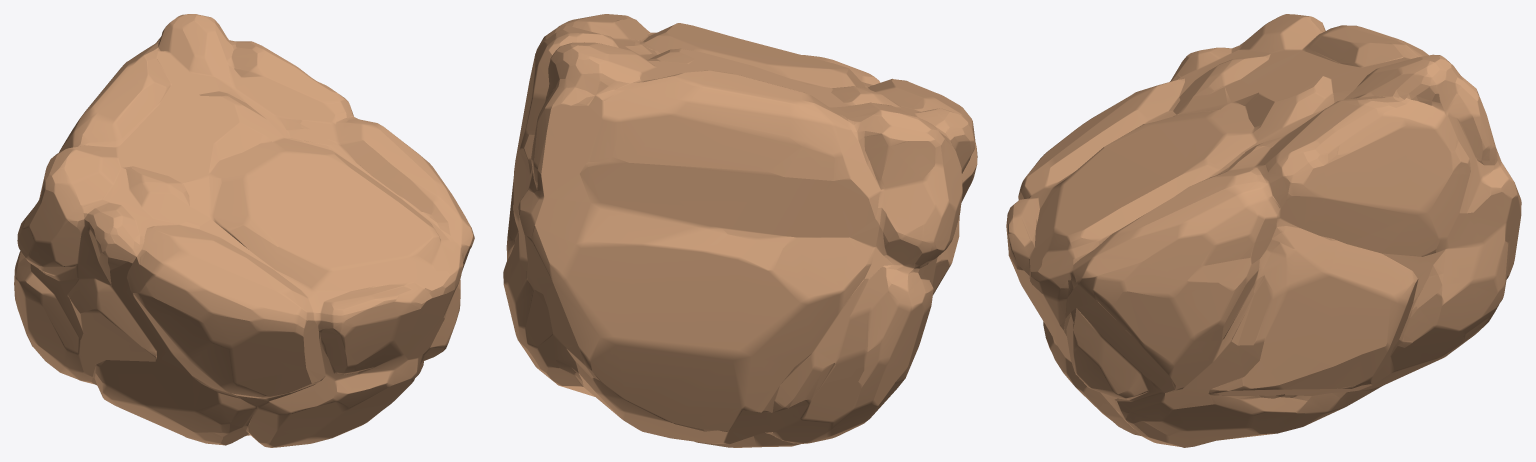
The picture shows the model from 3 angles, left to right: view 1: azimuth 30°, elevation 25°; view 2: azimuth 150°, elevation 25°; view 3: azimuth 270°, elevation 25°; orthographic projection. The views are drawn at different scales.
Visible parts, largest first — view 1: Mesh_38_LOD0; view 2: Mesh_38_LOD0; view 3: Mesh_38_LOD0.
Part boxes in pixels (x1,y1,x2,y2): Mesh_38_LOD0: [14, 14, 474, 447]; Mesh_38_LOD0: [503, 14, 977, 447]; Mesh_38_LOD0: [1006, 14, 1521, 447].
Size of what is drawn, in the model's own units: 2134 by 1902 by 2351.
